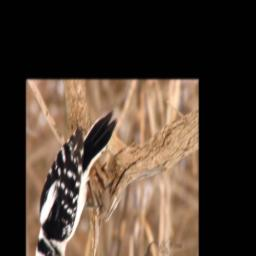Woodpecker: (35, 106, 118, 256)
